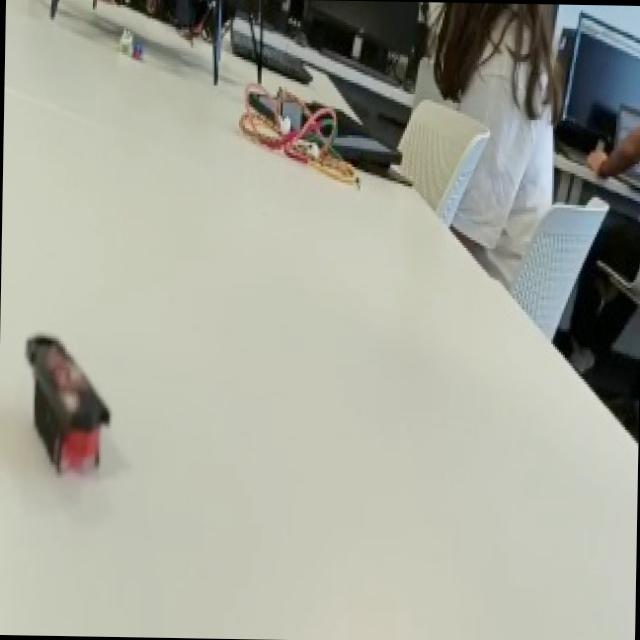2_NanoBug_Negro: (8, 314, 120, 496)
